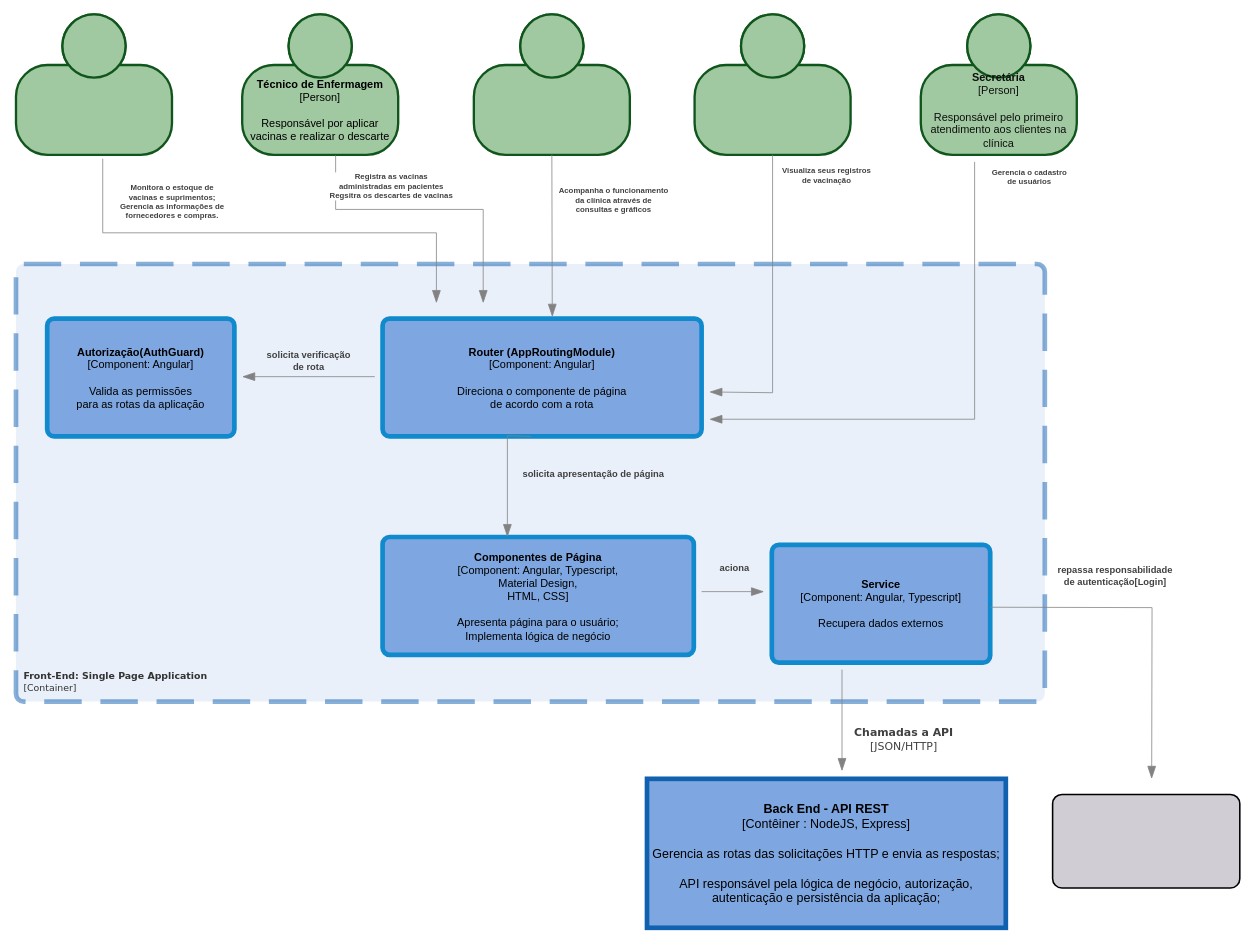
Some shapes in this 1253 by 944 pixel diagram are drawn without their labels. The shapes that lost their labels are listed below. From the top down, each one's centre as x and y in pixels, then its label:
point (93, 84): Analista de compras [Person] Responsável por administrar o estoque de vacinas
point (551, 84): Administrador [Person] Administrador da clínica
point (772, 84): Cliente [Person] Recebe as vacinas na clínica
point (1145, 840): Google OAuth [Software System] Sistema de login social do Google
